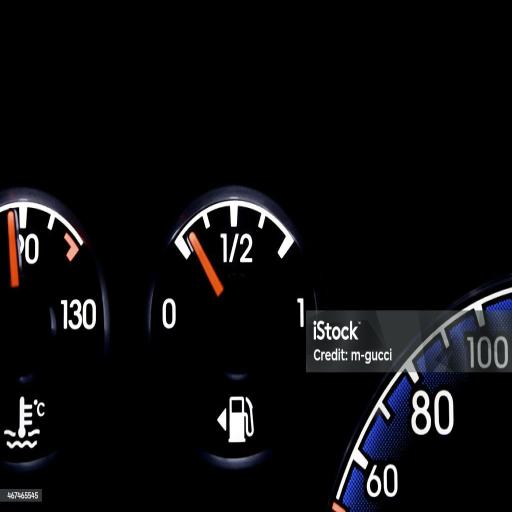empty: (158, 300, 179, 328)
fuel_icon: (228, 392, 255, 447)
full: (292, 293, 314, 332)
needle_center: (206, 285, 270, 383), (48, 382, 58, 386)
needle_tip: (186, 229, 202, 253)
